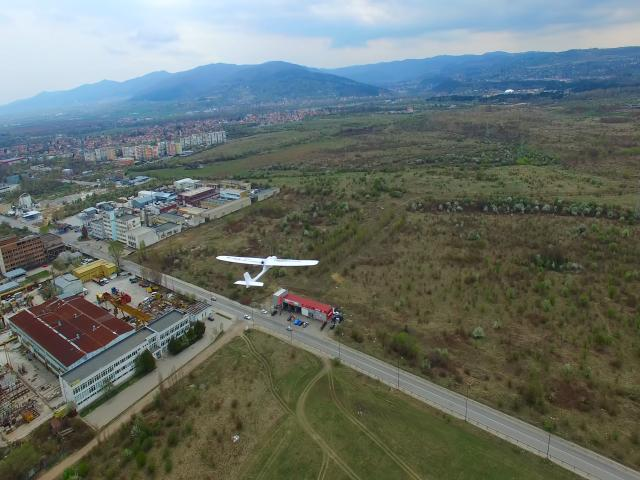plane: (215, 252, 319, 285)
